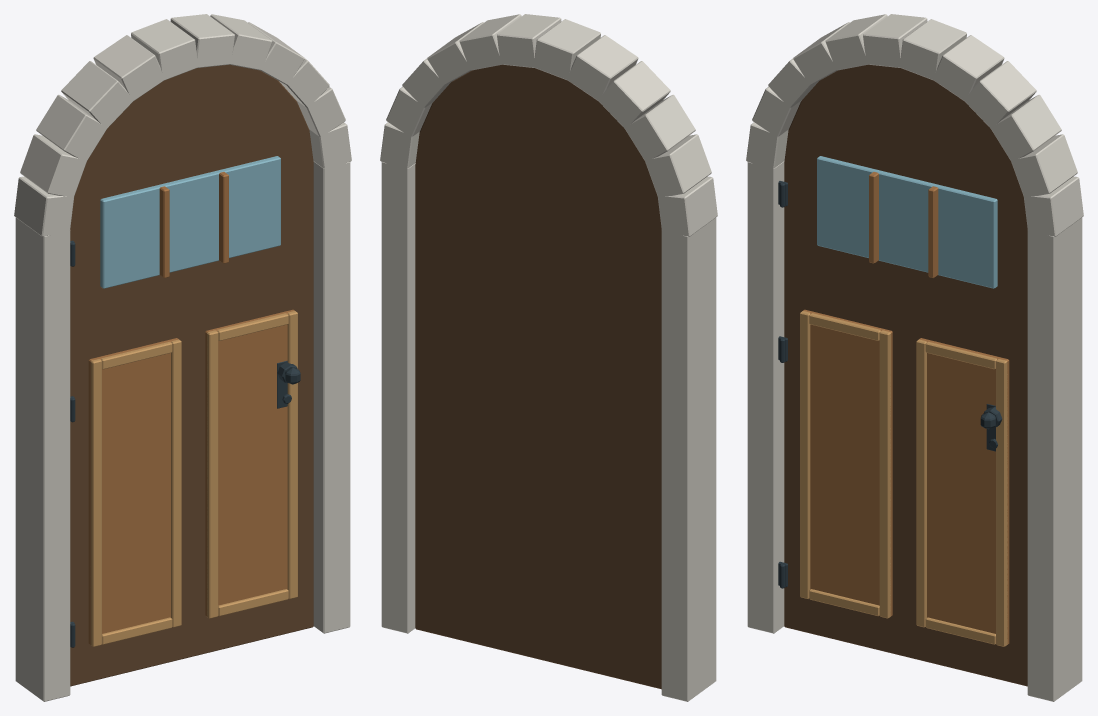
The model's file is b12_arched_wood_entry.glb.
3 renders of one model, left to right at view 1: azimuth 30°, elevation 25°; view 2: azimuth 150°, elevation 25°; view 3: azimuth 330°, elevation 25°, orthographic.
Parts seen in each view (by area): view 1: b12_arched_wood_entry; view 2: b12_arched_wood_entry; view 3: b12_arched_wood_entry.
Boxes of the visible parts, x1,y1,x2,y2 form: b12_arched_wood_entry: (14, 14, 351, 701); b12_arched_wood_entry: (380, 14, 717, 701); b12_arched_wood_entry: (746, 14, 1083, 701).
Size of the model in its own units: 1.25 by 2.42 by 0.2556.
